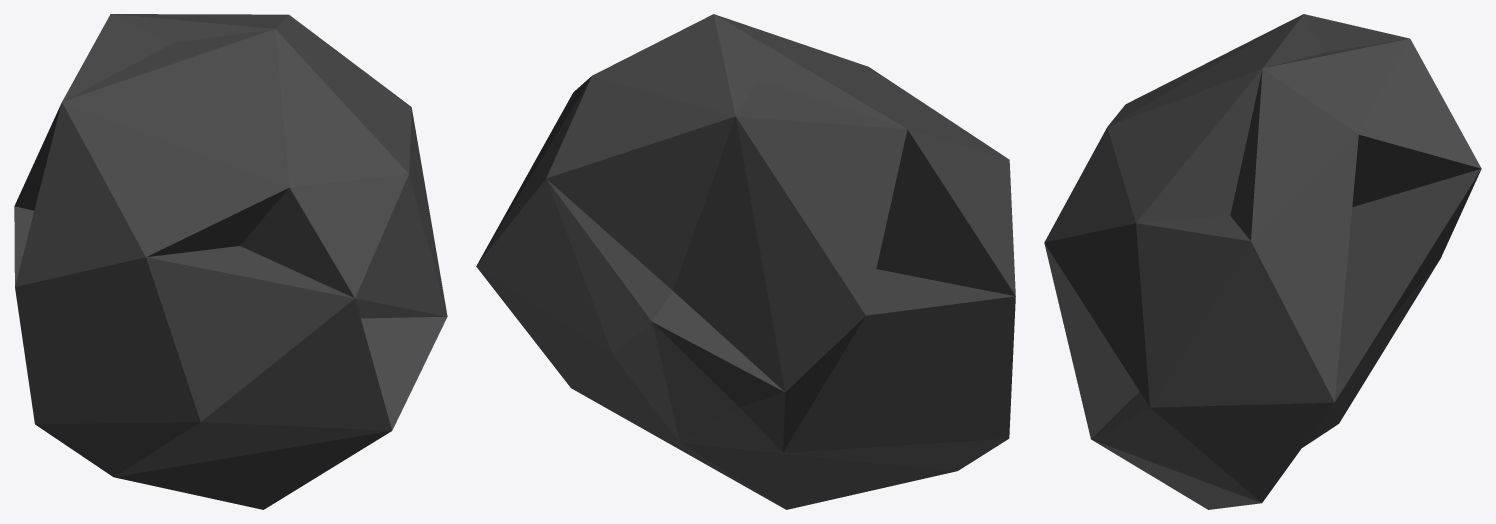
File: Asteroid.004.glb
The picture shows the model from 3 angles, left to right: view 1: azimuth 30°, elevation 25°; view 2: azimuth 150°, elevation 25°; view 3: azimuth 270°, elevation 25°; orthographic projection. The views are drawn at different scales.
Parts seen in each view (by area): view 1: Asteroid.004; view 2: Asteroid.004; view 3: Asteroid.004.
Part boxes in pixels (left/top/right/bottom): Asteroid.004: left=14, top=14, right=447, bottom=509; Asteroid.004: left=476, top=14, right=1015, bottom=509; Asteroid.004: left=1044, top=14, right=1481, bottom=509.
Bounding box in the file's own units: 9.97 × 9.77 × 8.41.
1 material, 1 textured.
